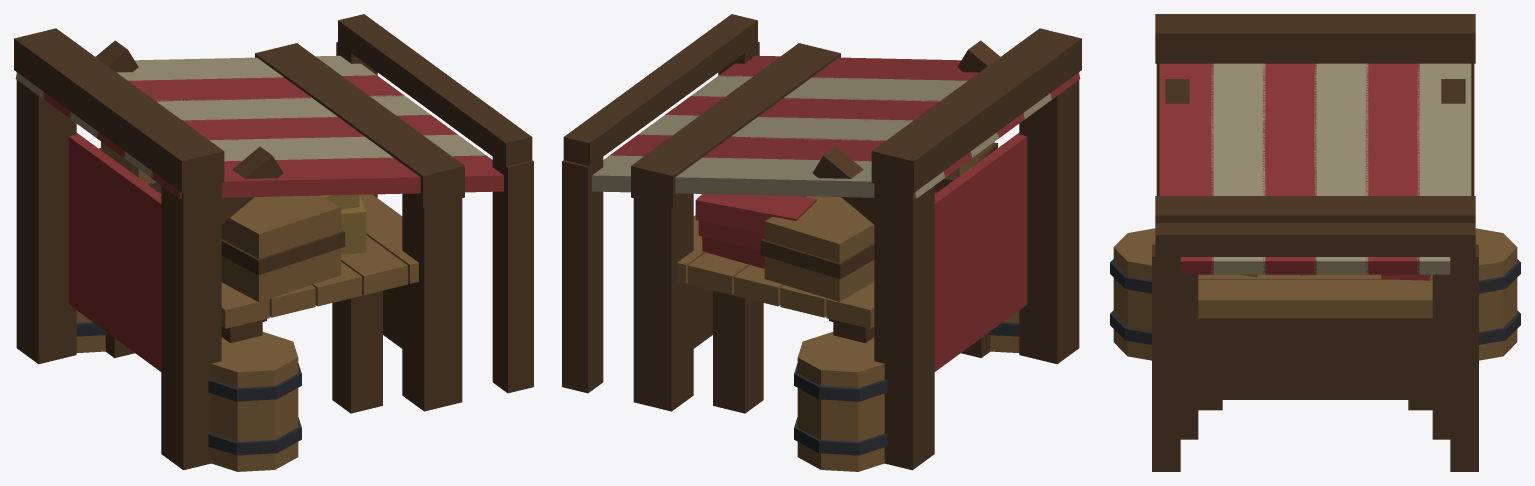
The model's file is market_stall.glb.
The picture shows the model from 3 angles, left to right: view 1: azimuth 30°, elevation 25°; view 2: azimuth 150°, elevation 25°; view 3: azimuth 270°, elevation 25°; orthographic projection. The views are drawn at different scales.
Visible parts, largest first — view 1: Cube.027, Cube, Cube.003, Cube.006, Cube.001, Cube.025, Cube.007, Cube.024, Cube.028, Cylinder, Cube.018, Cube.008 (+19 smaller); view 2: Cube.027, Cube.003, Cube, Cube.006, Cube.004, Cube.026, Cube.007, Cube.024, Cylinder.003, Cube.023, Cube.030, Cube.010 (+21 smaller); view 3: Cube.017, Cube.006, Cube.024, Cube.016, Cube.007, Cube.019, Cube.021, Cube.022, Cube.020, Cube.018, Cube.023, Cube.025 (+14 smaller).
Part boxes in pixels (x1,y1,x2,y2): Cube.027: (68,133,161,371); Cube: (161,183,221,470); Cube.003: (16,72,76,364); Cube.006: (14,28,224,192); Cube.001: (402,193,462,411); Cube.025: (492,157,533,393); Cube.007: (255,43,464,207); Cube.024: (338,14,532,166); Cube.028: (221,195,341,302); Cylinder: (211,332,298,471); Cube.018: (151,155,503,198); Cube.008: (332,290,382,413); Cube.027: (934,133,1027,371); Cube.003: (874,183,934,470); Cube: (1019,72,1079,364); Cube.006: (871,28,1081,192); Cube.004: (633,193,693,411); Cube.026: (562,157,603,393); Cube.007: (631,43,840,207); Cube.024: (563,14,757,166); Cylinder.003: (797,332,884,471); Cube.023: (592,155,944,198); Cube.030: (764,196,874,301); Cube.010: (713,290,763,413); Cube.017: (1198,318,1432,399); Cube.006: (1155,14,1475,63); Cube.024: (1155,222,1475,256); Cube.016: (1198,279,1432,318); Cube.007: (1155,196,1475,222); Cube.019: (1211,63,1265,274); Cube.021: (1314,63,1368,274); Cube.022: (1365,63,1419,274); Cube.020: (1262,63,1316,274); Cube.018: (1159,63,1213,274); Cube.023: (1417,63,1471,274); Cube.025: (1152,244,1180,471).
Bounding box in the file's own units: 34.96 × 29.5 × 37.2.
